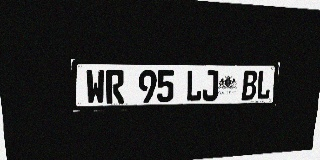5: (157, 70, 174, 102)
9: (139, 70, 157, 103)
B: (241, 70, 258, 100)
J: (202, 70, 219, 101)
L: (185, 70, 203, 102), (256, 70, 272, 100)
R: (105, 70, 124, 104)
W: (85, 70, 105, 104)
